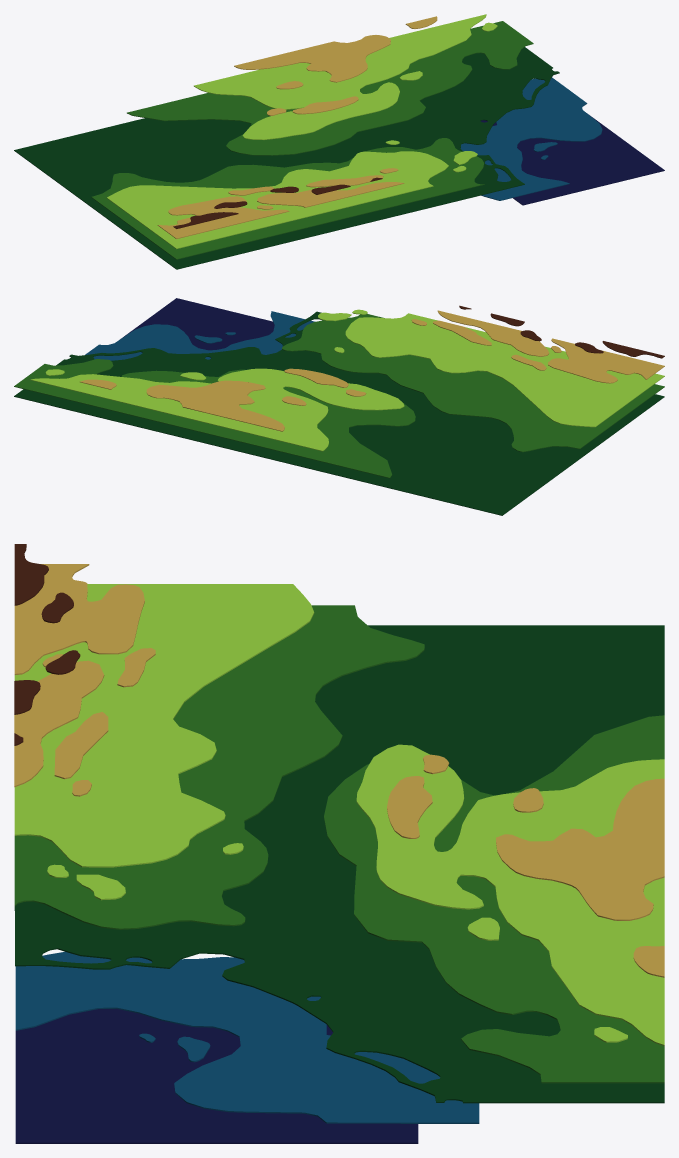
The model's file is CarteScene01.fbx.
3 renders of one model, top to bottom at view 1: azimuth 30°, elevation 25°; view 2: azimuth 150°, elevation 25°; view 3: azimuth 270°, elevation 25°, orthographic. The views are drawn at different scales.
Visible parts, largest first — view 1: carte; view 2: carte; view 3: carte.
Part boxes in pixels (<box>): carte: <box>14,14,664,269</box>; carte: <box>14,298,664,515</box>; carte: <box>14,544,664,1143</box>.
Bounding box in the file's own units: 249 × 30.06 × 144.
